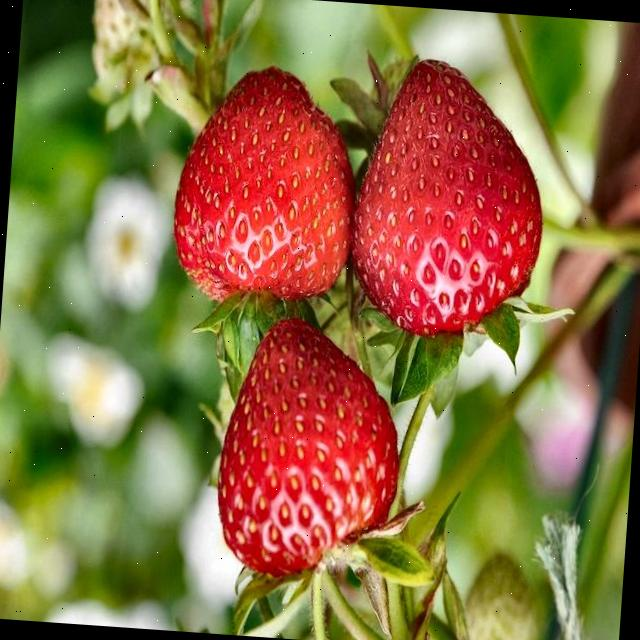strawberry: (351, 59, 541, 335), (216, 317, 398, 575), (172, 66, 354, 299)
